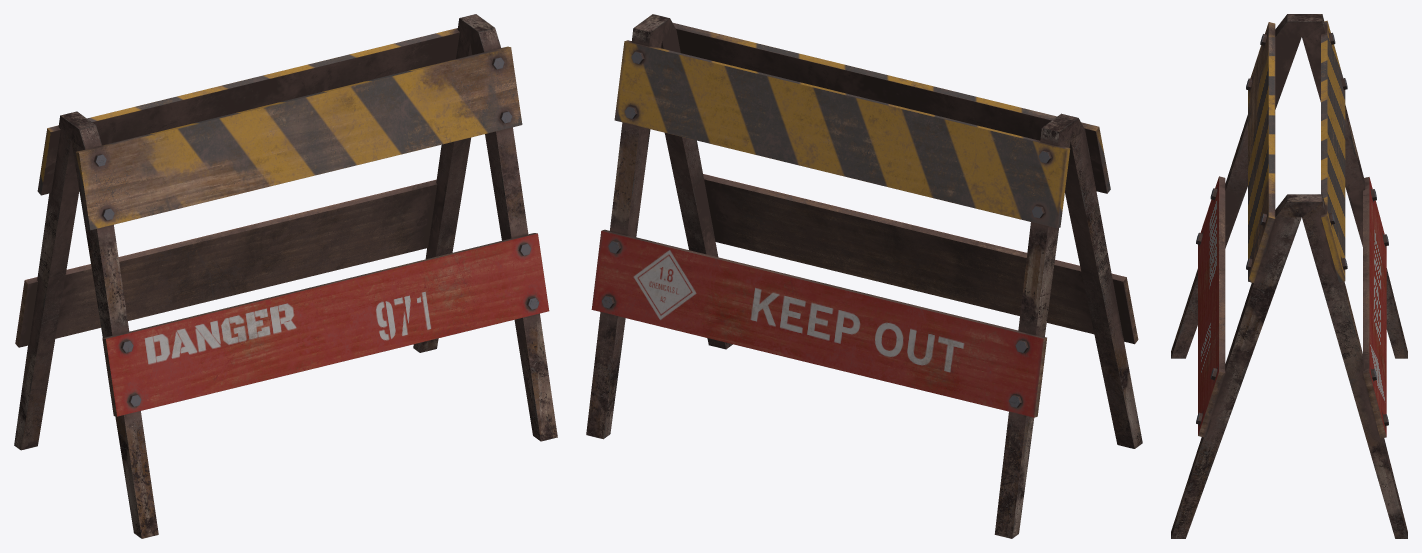
Rendered from free_road_barrier_low-poly_pbr.glb.
3 views of the same model, side by side, from view 1: azimuth 30°, elevation 25°; view 2: azimuth 150°, elevation 25°; view 3: azimuth 270°, elevation 25° (orthographic). The views are drawn at different scales.
Visible parts, largest first — view 1: Road_berrier_1; view 2: Road_berrier_1; view 3: Road_berrier_1.
Part boxes in pixels (left/top/right/bottom): Road_berrier_1: left=14, top=14, right=557, bottom=538; Road_berrier_1: left=586, top=14, right=1142, bottom=538; Road_berrier_1: left=1171, top=14, right=1407, bottom=538.
Bounding box in the file's own units: 2.01 × 1.62 × 1.03.
1 material, 1 textured.
